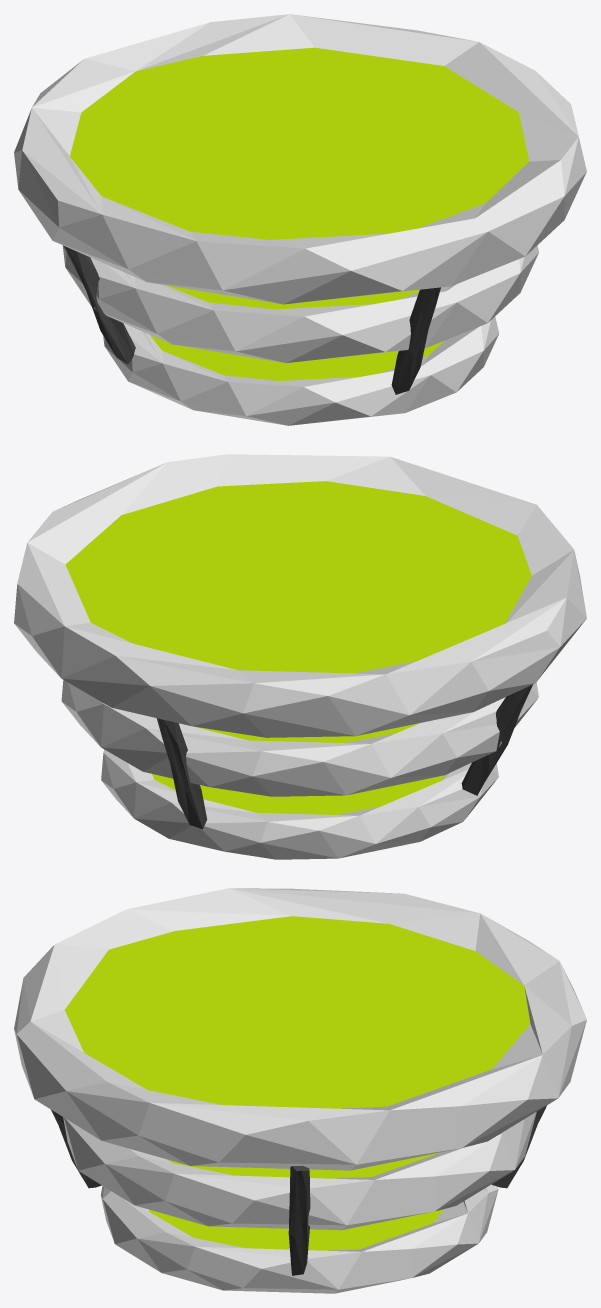
The model's file is Light Koncetation.fbx.
3 views of the same model, one above another, from view 1: azimuth 30°, elevation 25°; view 2: azimuth 150°, elevation 25°; view 3: azimuth 270°, elevation 25° (orthographic).
Parts seen in each view (by area): view 1: Konzentration 1; view 2: Konzentration 1; view 3: Konzentration 1.
Boxes of the visible parts, bbox=[...] form: Konzentration 1: bbox=[14, 14, 586, 425]; Konzentration 1: bbox=[14, 454, 586, 859]; Konzentration 1: bbox=[14, 888, 586, 1293].
Bounding box in the file's own units: 627 × 261 × 625.
